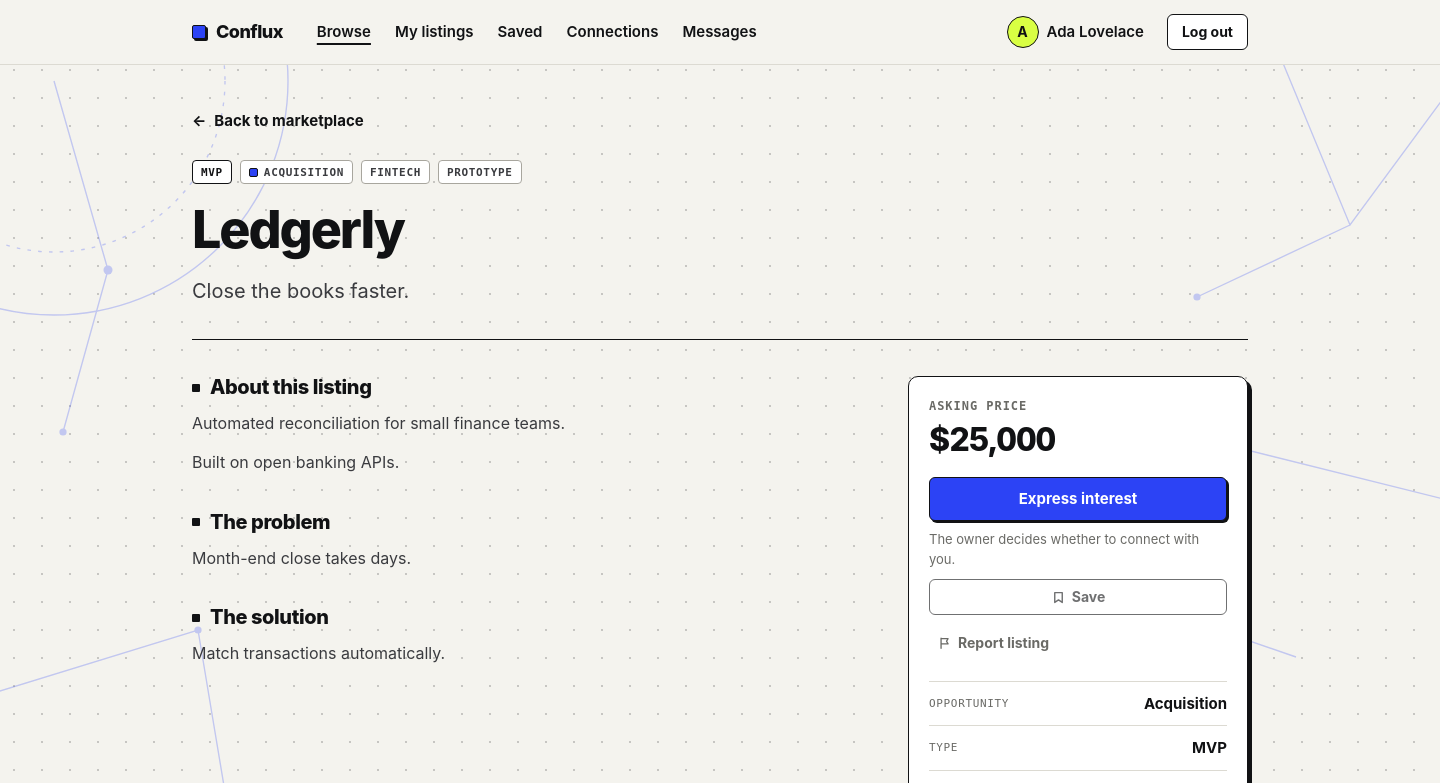
Test: Express interest › reports an existing pending request
Click the button "Express interest" at (1078, 499), box [929,477,1227,521]
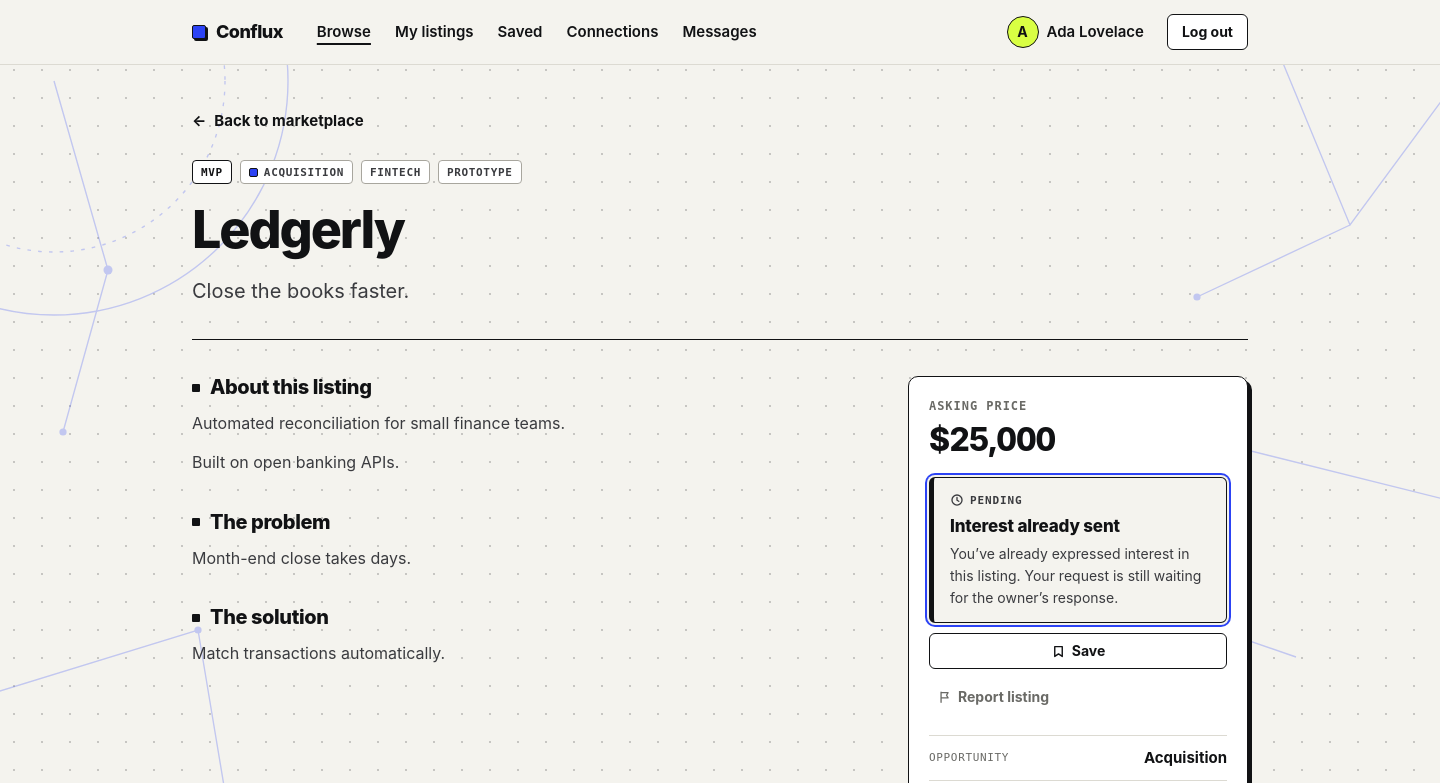
Expected: the message shows "Interest already sent", [950,516,1120,536]
Expected: the message shows "still waiting for the owner’s response", [950,545,1201,606]
